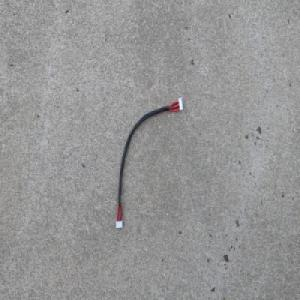Wire: (114, 96, 184, 232)
